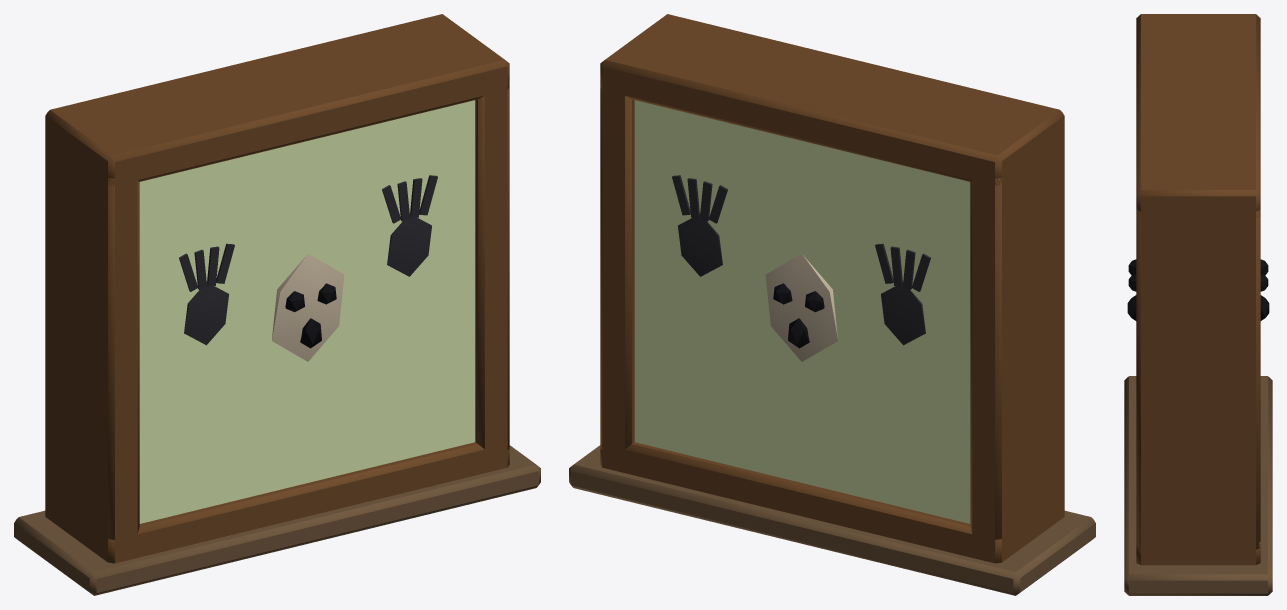
File: window_faces.glb
3 views of the same model, side by side, from view 1: azimuth 30°, elevation 25°; view 2: azimuth 150°, elevation 25°; view 3: azimuth 270°, elevation 25° (orthographic). The views are drawn at different scales.
Parts seen in each view (by area): view 1: window_faces; view 2: window_faces; view 3: window_faces.
Boxes of the visible parts, <box> form: window_faces: <box>14,14,540,595</box>; window_faces: <box>569,14,1095,595</box>; window_faces: <box>1124,14,1272,595</box>.
Bounding box in the file's own units: 2 × 1.82 × 0.62.
